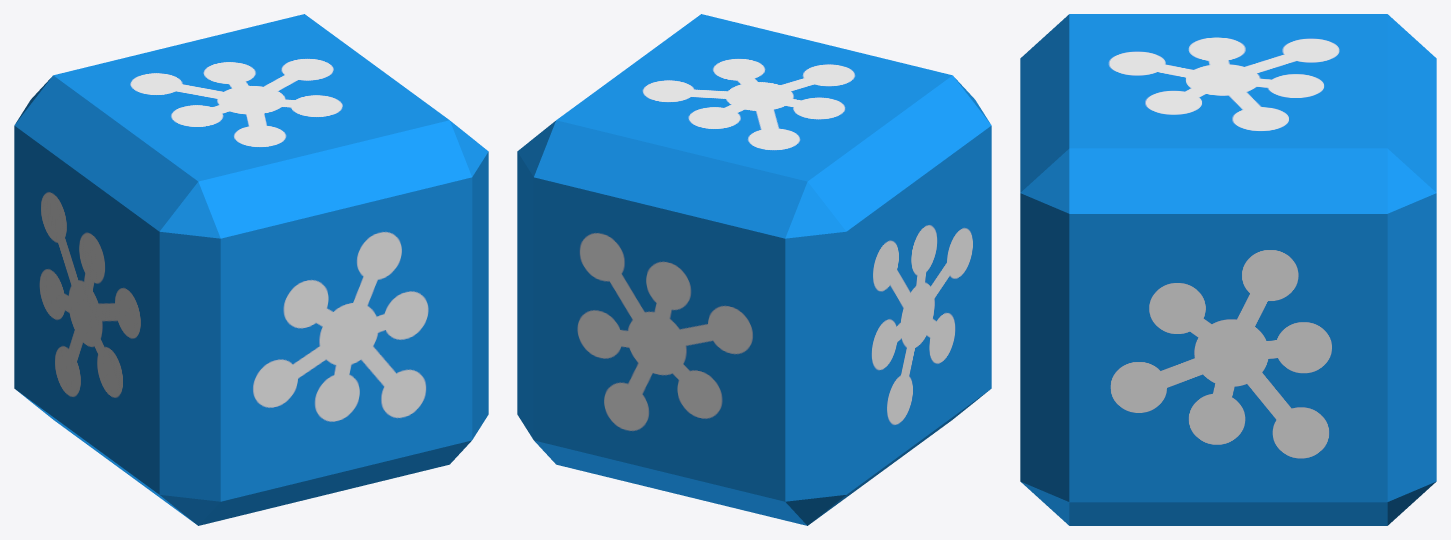
Rendered from bluecube.glb.
3 renders of one model, left to right at view 1: azimuth 30°, elevation 25°; view 2: azimuth 150°, elevation 25°; view 3: azimuth 270°, elevation 25°, orthographic. The views are drawn at different scales.
Visible parts, largest first — view 1: Cube; view 2: Cube; view 3: Cube.
Part boxes in pixels (<box>): Cube: <box>14,14,488,525</box>; Cube: <box>517,14,991,525</box>; Cube: <box>1020,14,1436,525</box>.
Size of the model in its own units: 3 by 3 by 3.
1 material, 1 textured.
